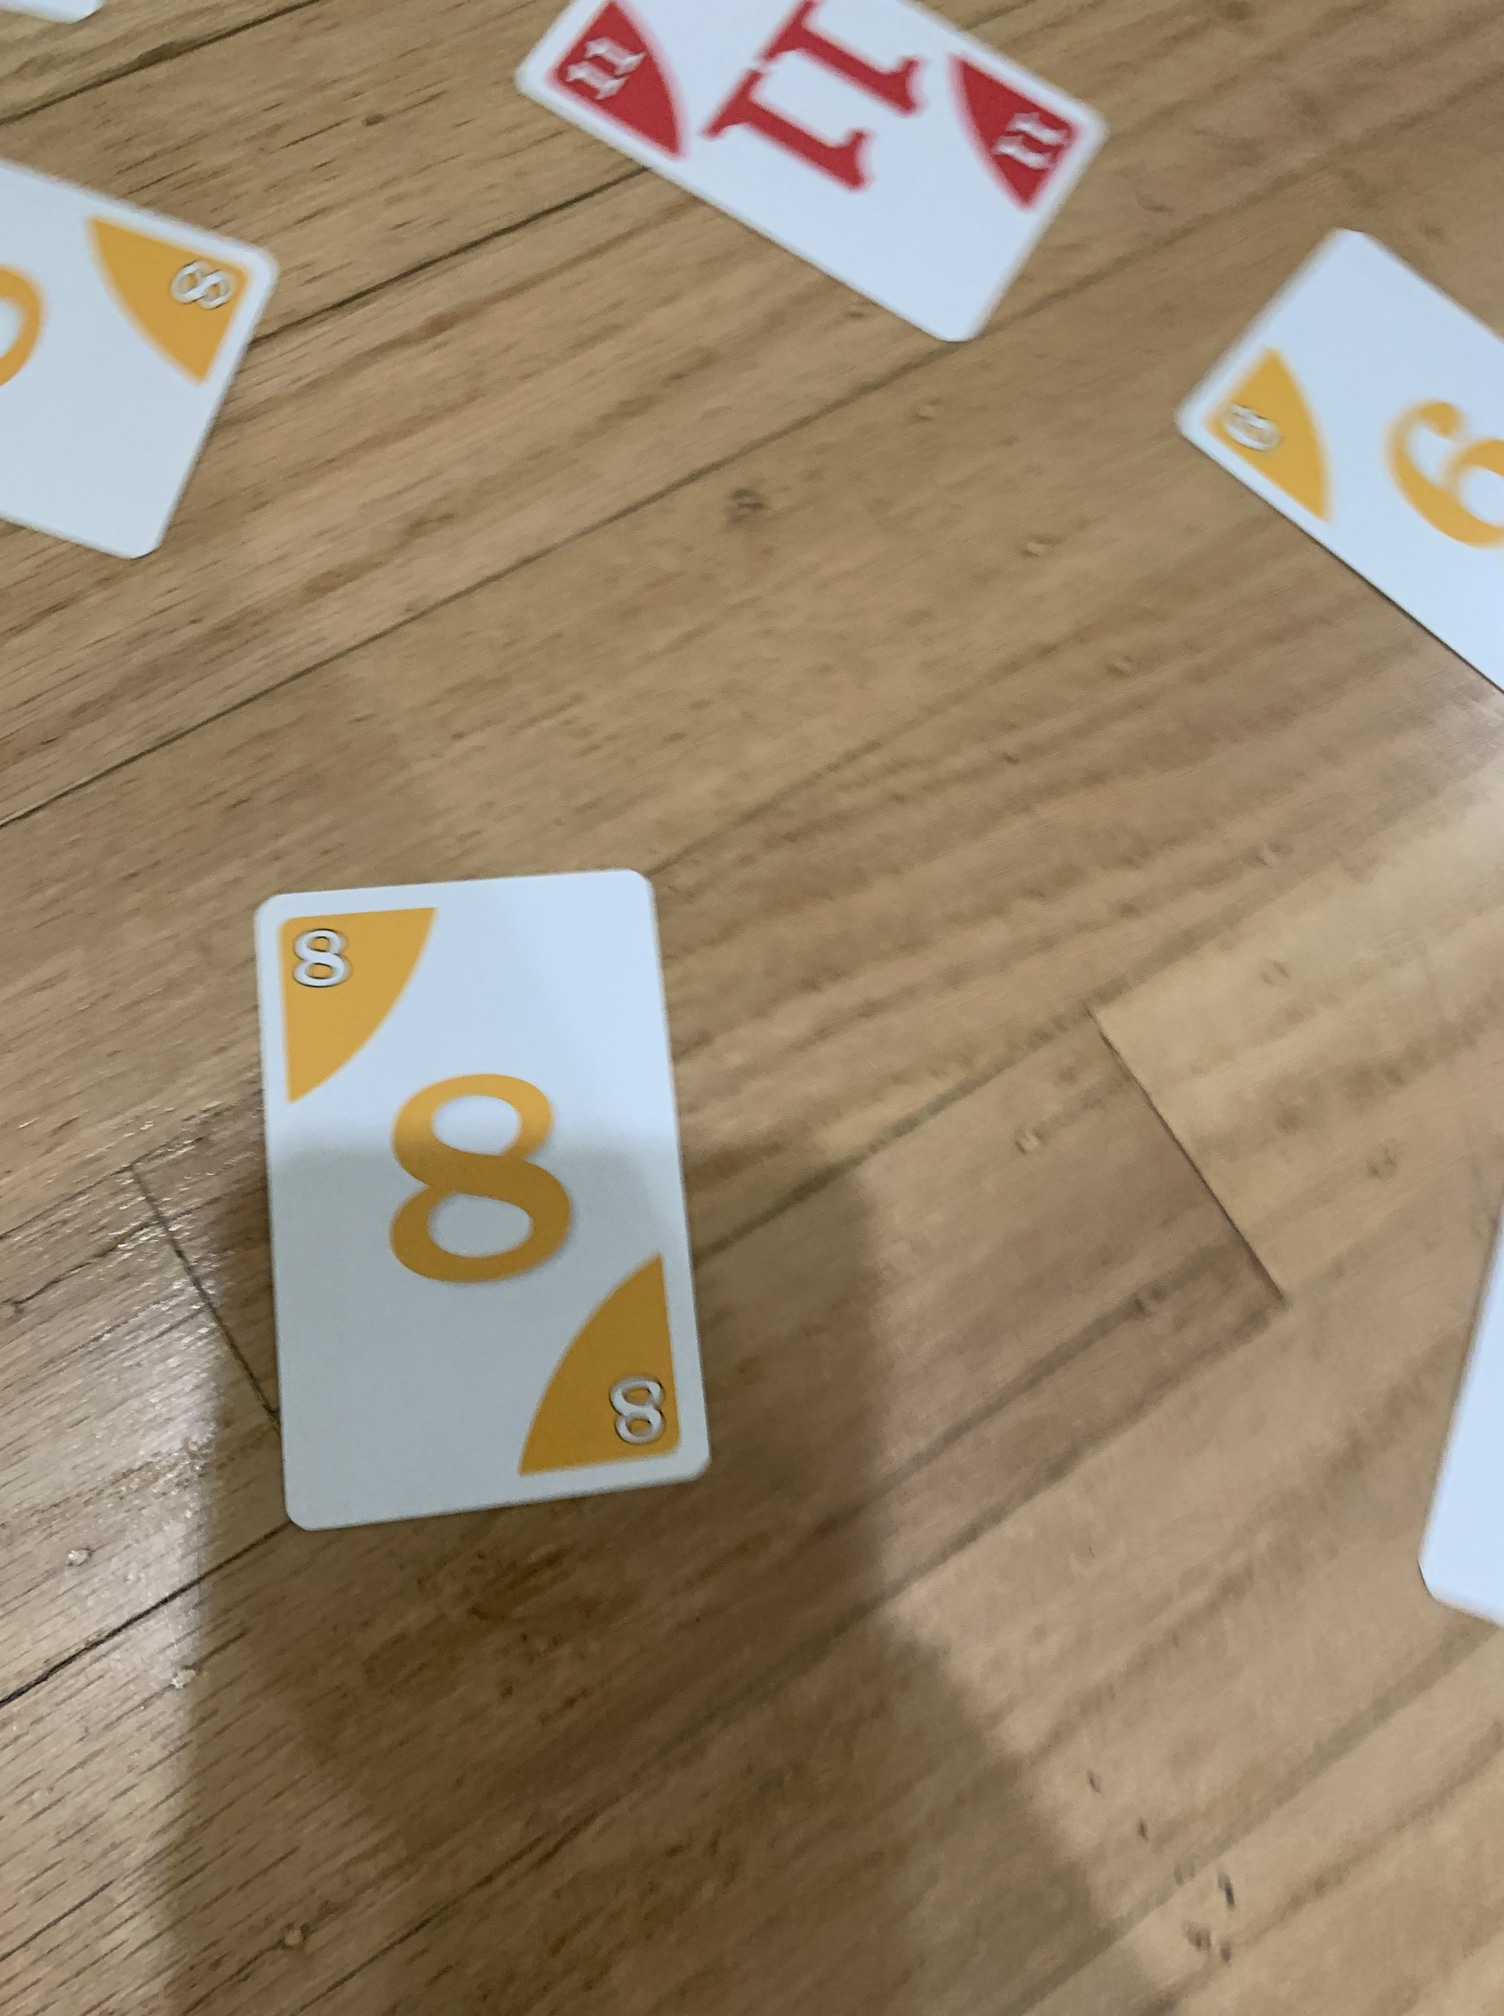eight: (239, 872, 717, 1540)
eleven: (506, 2, 1131, 378)
